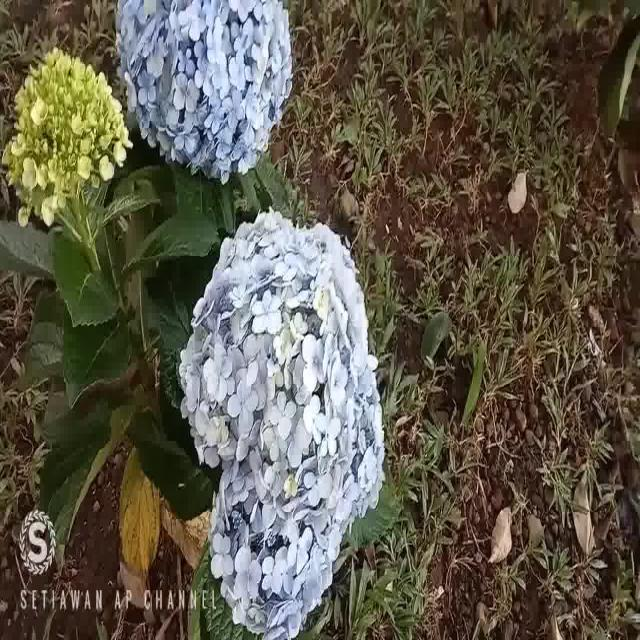Flower: (175, 210, 387, 640), (118, 1, 293, 190), (3, 55, 128, 236)
